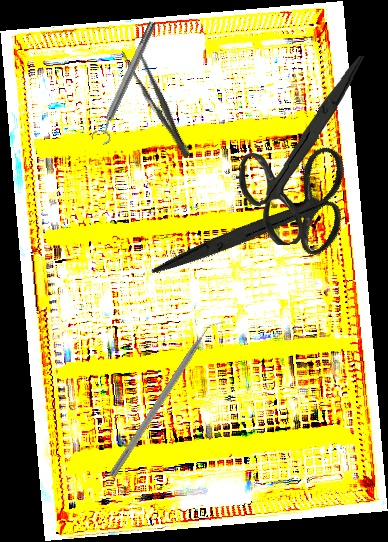Chopper: (108, 313, 228, 484)
Dressing Forceps: (118, 43, 198, 162)
Fixation Ring: (88, 18, 164, 147)
Iris Scissors: (150, 101, 376, 347), (233, 55, 373, 247)
